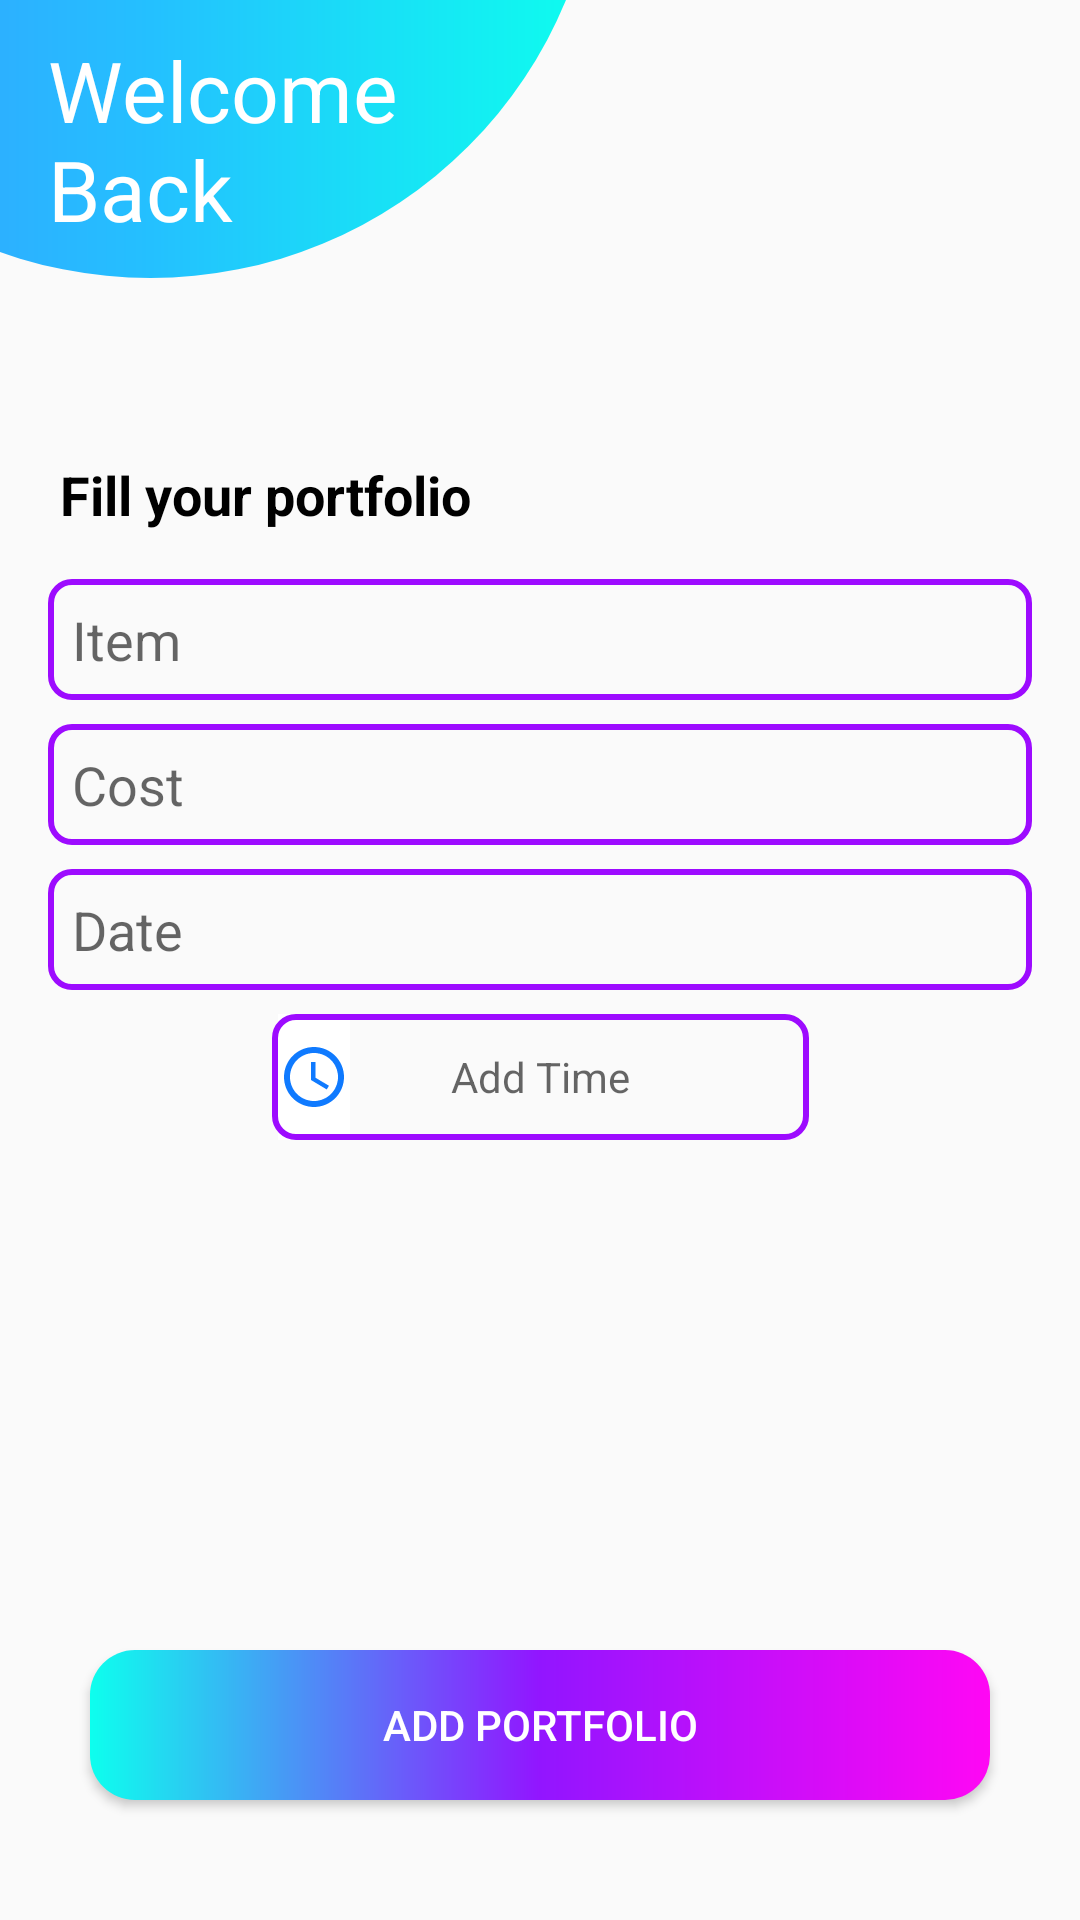

Named icons in this screenshot (1080w x 1920h) and their centers, (x=x, y=y):
access time: (x=314, y=1077)
